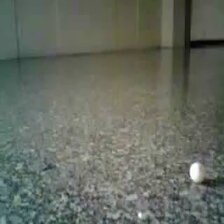w: (190, 162, 206, 183)
